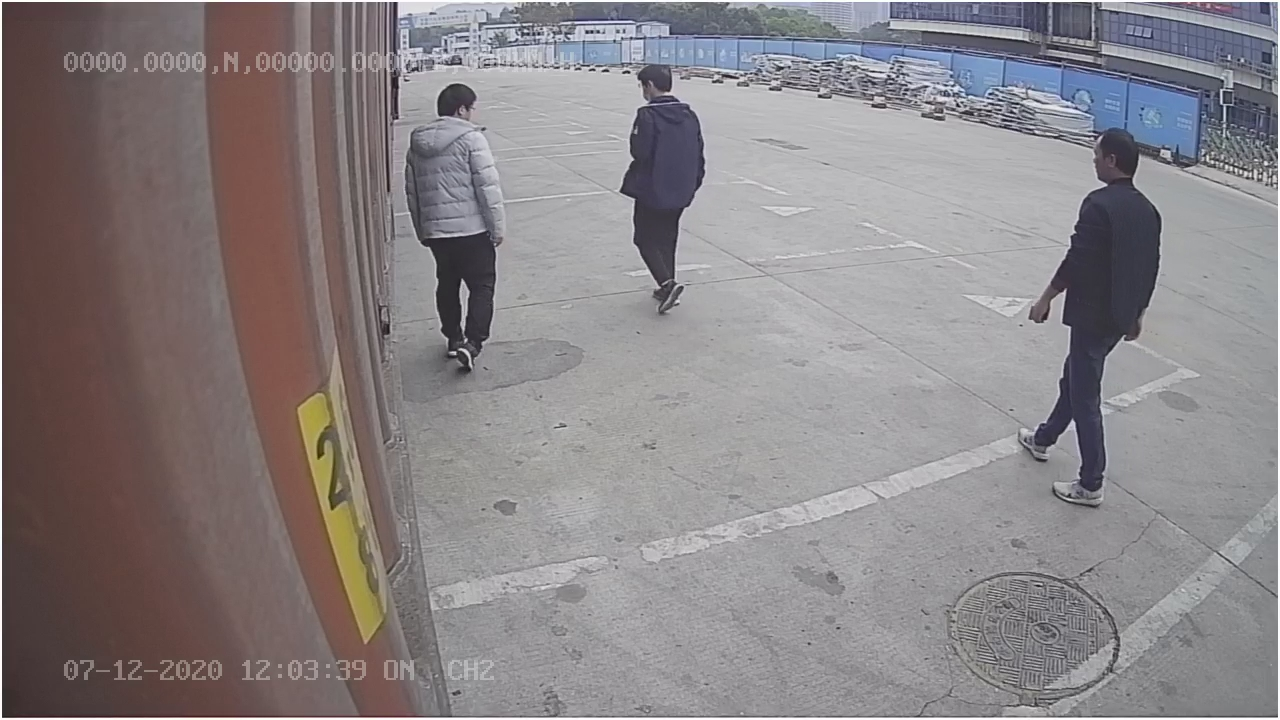person: (1020, 124, 1169, 515), (402, 80, 512, 373), (612, 56, 713, 313)
